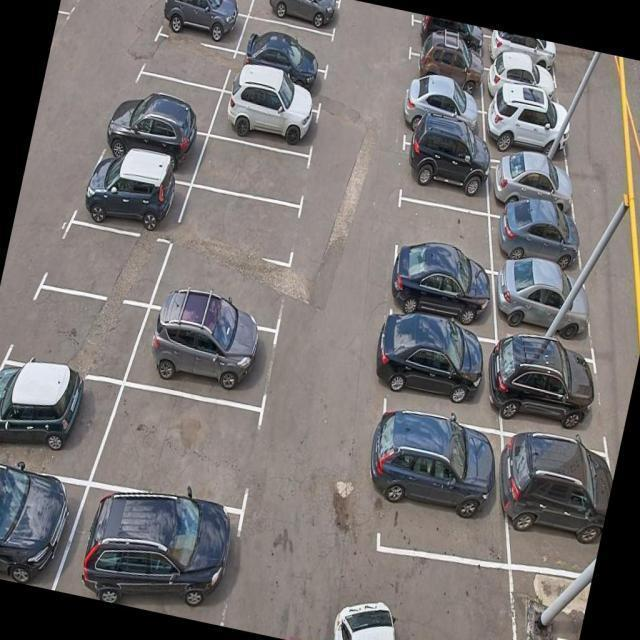space-empty: (92, 378, 258, 511), (11, 282, 146, 386), (152, 236, 294, 323), (170, 176, 302, 267), (46, 214, 172, 307), (195, 128, 315, 206), (144, 30, 237, 93), (132, 70, 220, 131), (241, 15, 335, 62), (56, 0, 92, 20)
space-occupied: (61, 482, 248, 628), (364, 404, 512, 574), (502, 423, 623, 587), (129, 300, 286, 418), (1, 354, 119, 482), (372, 310, 497, 413), (495, 338, 609, 437), (0, 458, 79, 593), (382, 236, 501, 324), (76, 156, 192, 243), (492, 257, 599, 348), (392, 133, 494, 208), (213, 90, 324, 155), (491, 199, 588, 273), (103, 112, 207, 177), (487, 153, 582, 219), (479, 96, 573, 158), (396, 80, 487, 138), (232, 52, 330, 102), (157, 0, 245, 50), (484, 60, 566, 111), (404, 45, 488, 94), (405, 13, 490, 59), (489, 33, 564, 80), (249, 0, 342, 34)
